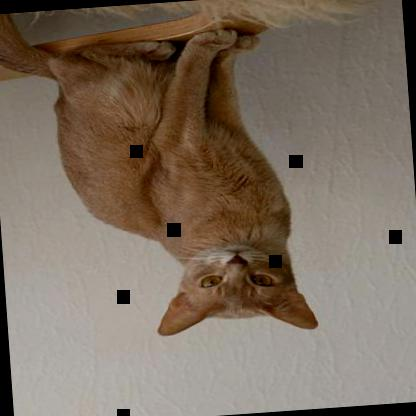cat: (0, 0, 321, 352)
